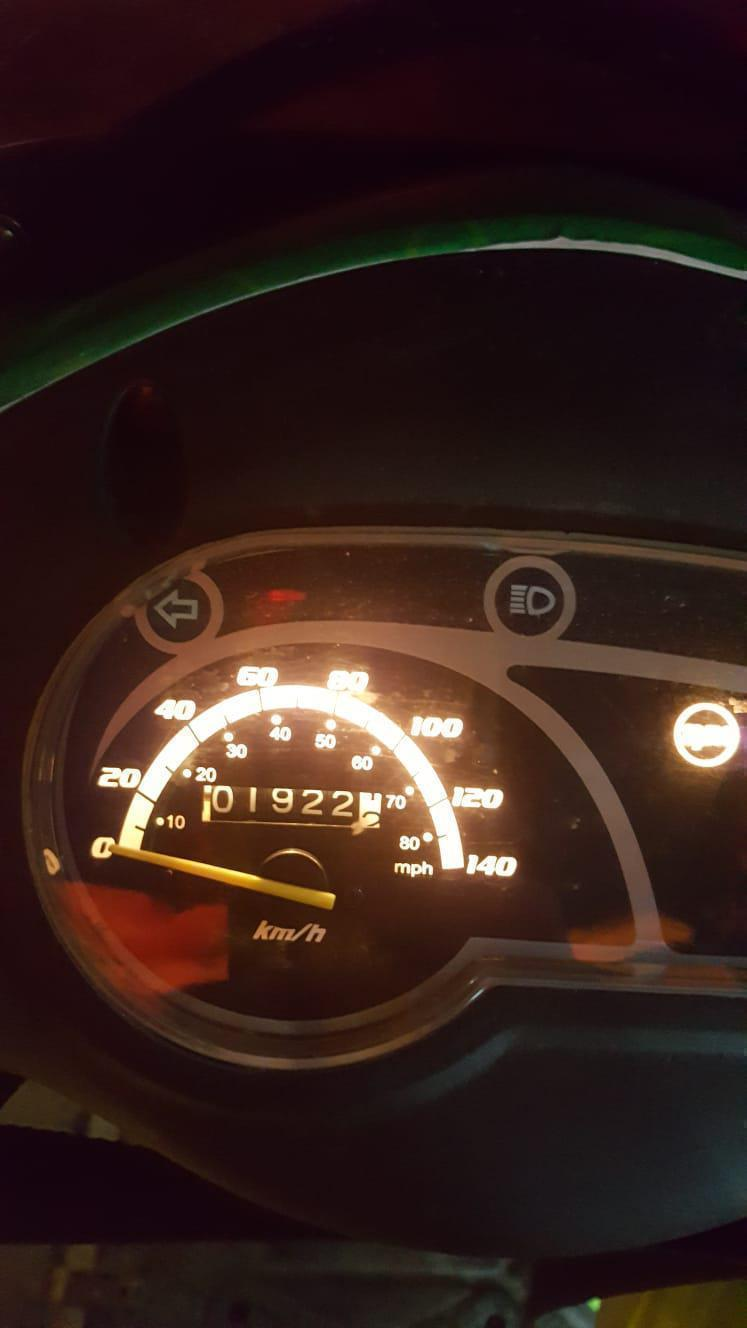0: (210, 783, 236, 815)
1: (244, 783, 261, 814), (363, 788, 380, 803)
2: (298, 785, 327, 817), (330, 788, 355, 819), (359, 809, 382, 829)
9: (268, 784, 295, 815)
odometer: (194, 778, 387, 834)
